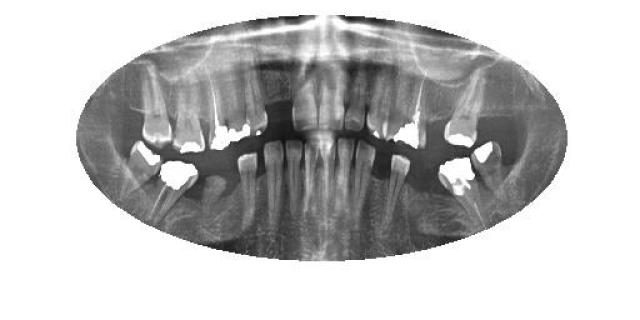Fillings: (436, 156, 489, 232), (146, 158, 199, 228), (443, 70, 482, 148), (114, 141, 162, 204), (170, 85, 205, 156), (474, 140, 505, 209), (229, 74, 249, 144)
Implant: (395, 76, 429, 150), (206, 65, 232, 153)
